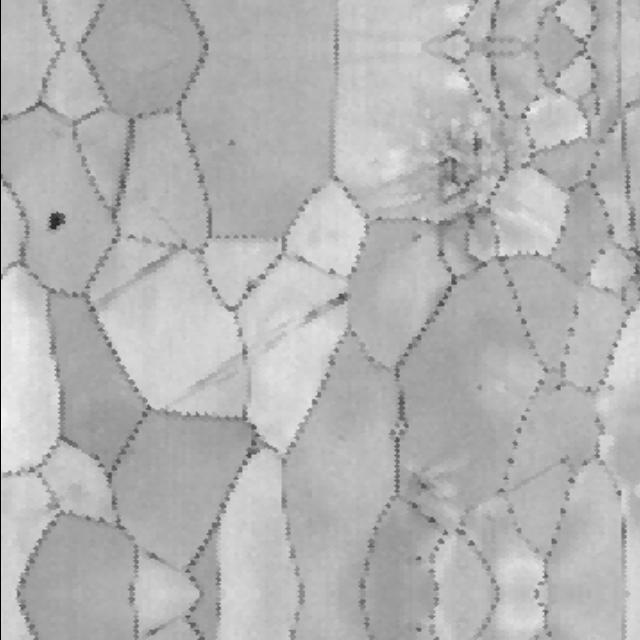good_void: (417, 123, 491, 229), (302, 288, 354, 324), (35, 200, 73, 247), (404, 463, 440, 496), (468, 376, 490, 406), (403, 227, 426, 252), (408, 541, 428, 569), (408, 617, 428, 640), (224, 134, 238, 147)
